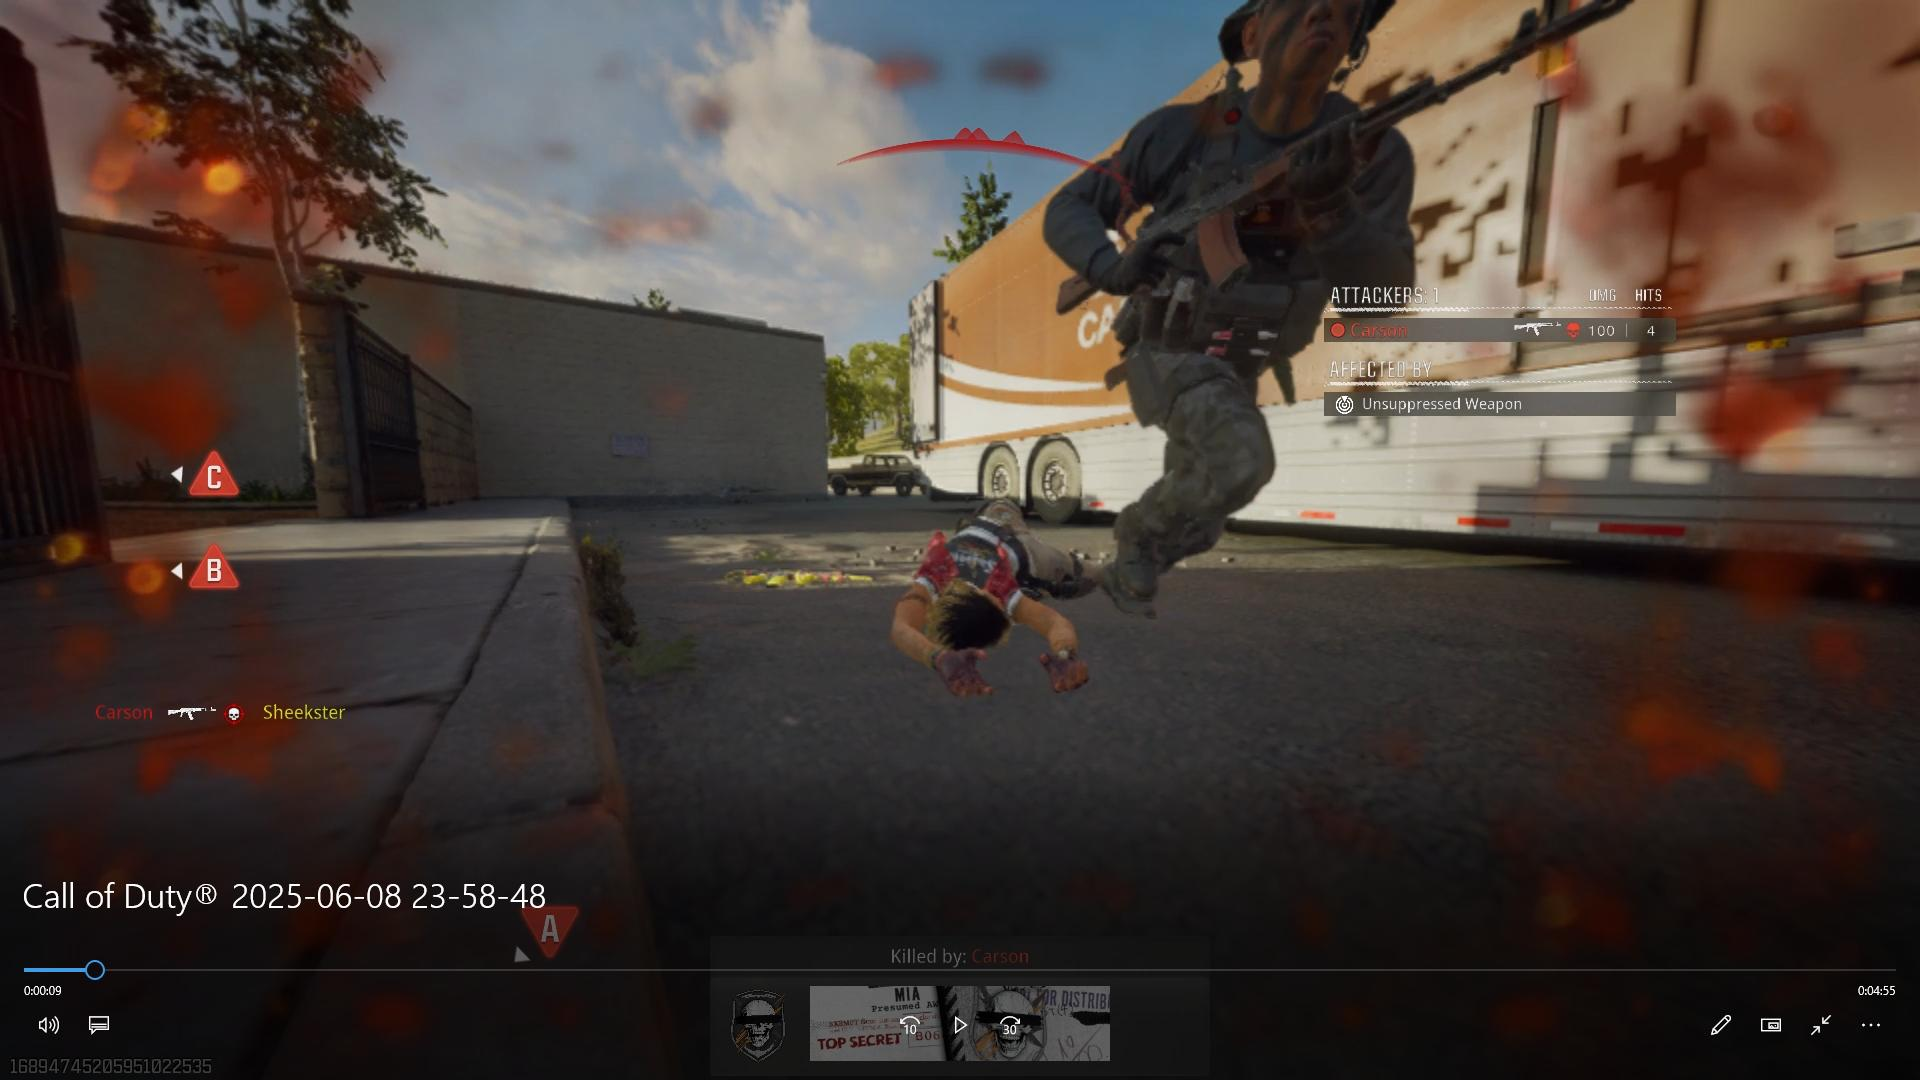Enemy: (1120, 0, 1366, 618)
